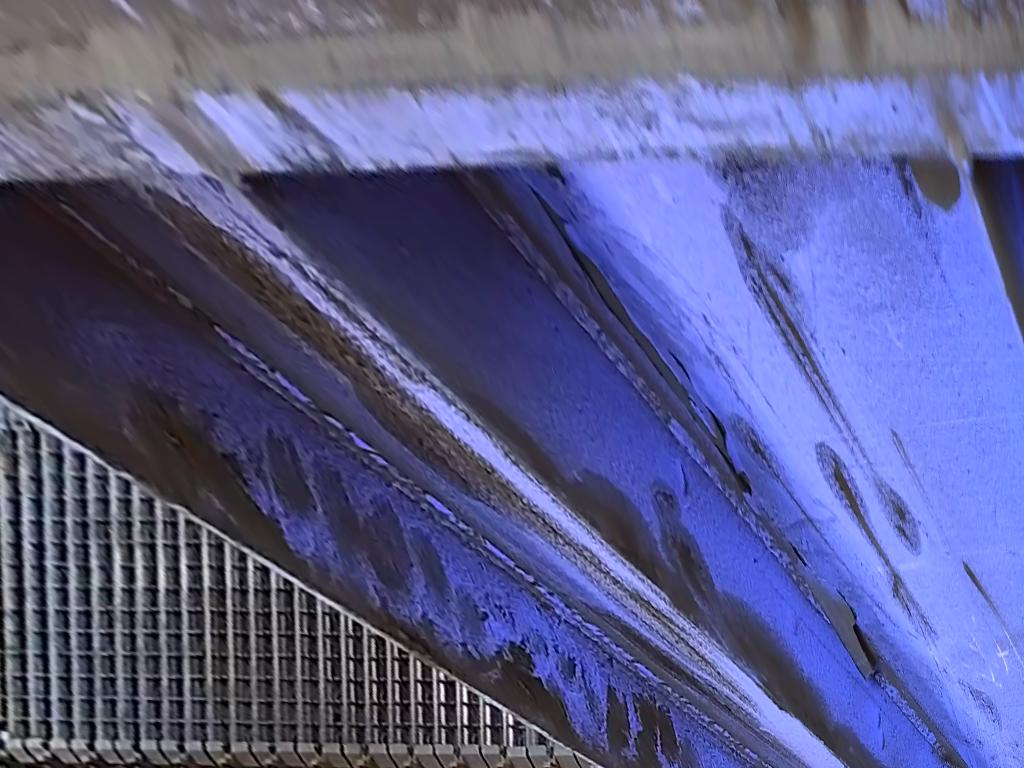cae: (1, 1, 1024, 768)
